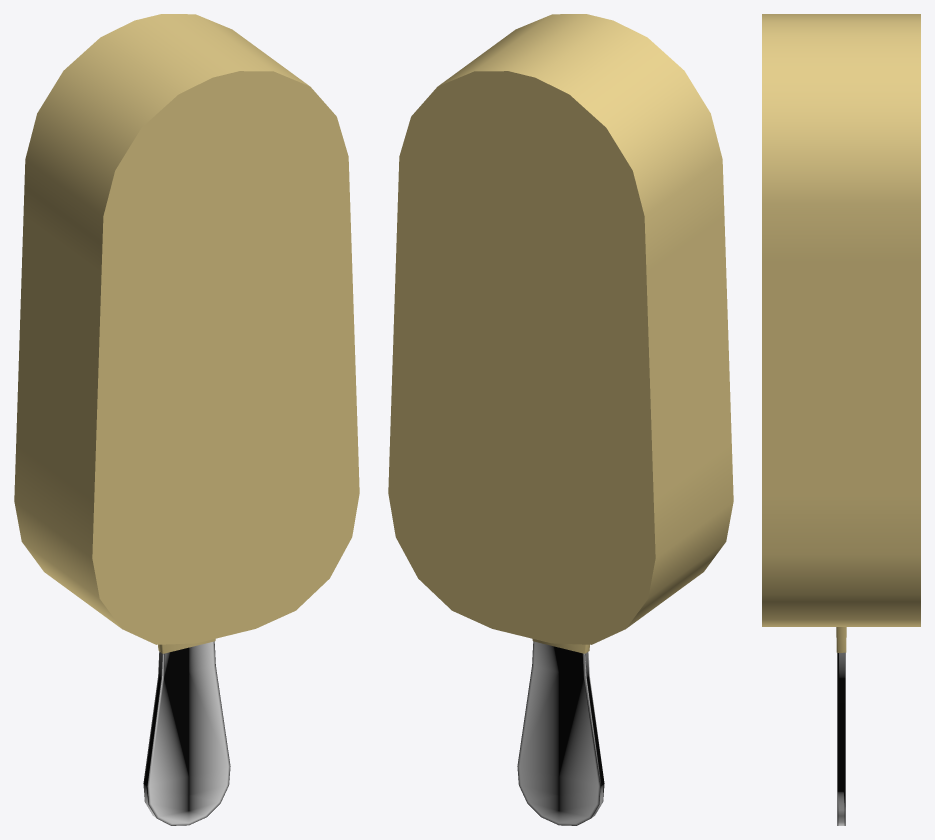
Rendered from ICECreamStickWhite.glb.
3 views of the same model, side by side, from view 1: azimuth 30°, elevation 25°; view 2: azimuth 150°, elevation 25°; view 3: azimuth 270°, elevation 25° (orthographic).
Visible parts, largest first — view 1: Eis.001, Stiel.002; view 2: Eis.001, Stiel.002; view 3: Eis.001, Stiel.002.
Part boxes in pixels (<box>): Eis.001: <box>14,14,359,653</box>; Stiel.002: <box>143,641,230,825</box>; Eis.001: <box>388,14,733,653</box>; Stiel.002: <box>517,641,604,825</box>; Eis.001: <box>762,14,920,652</box>; Stiel.002: <box>837,652,845,825</box>.
Bounding box in the file's own units: 0.0494 × 0.1375 × 0.025.
